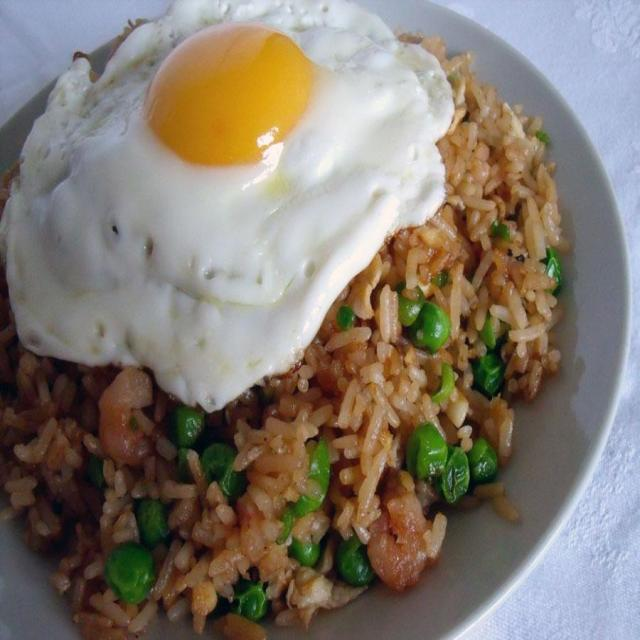Nasi Goreng: (3, 1, 565, 605)
